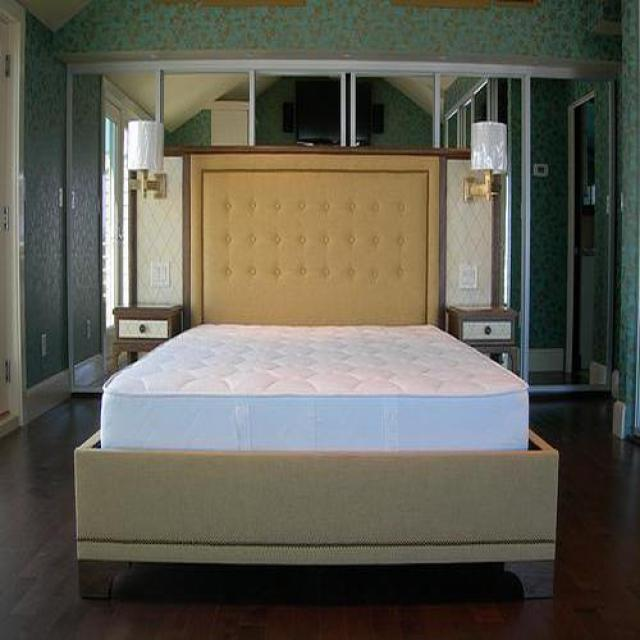bed: (74, 155, 561, 602)
